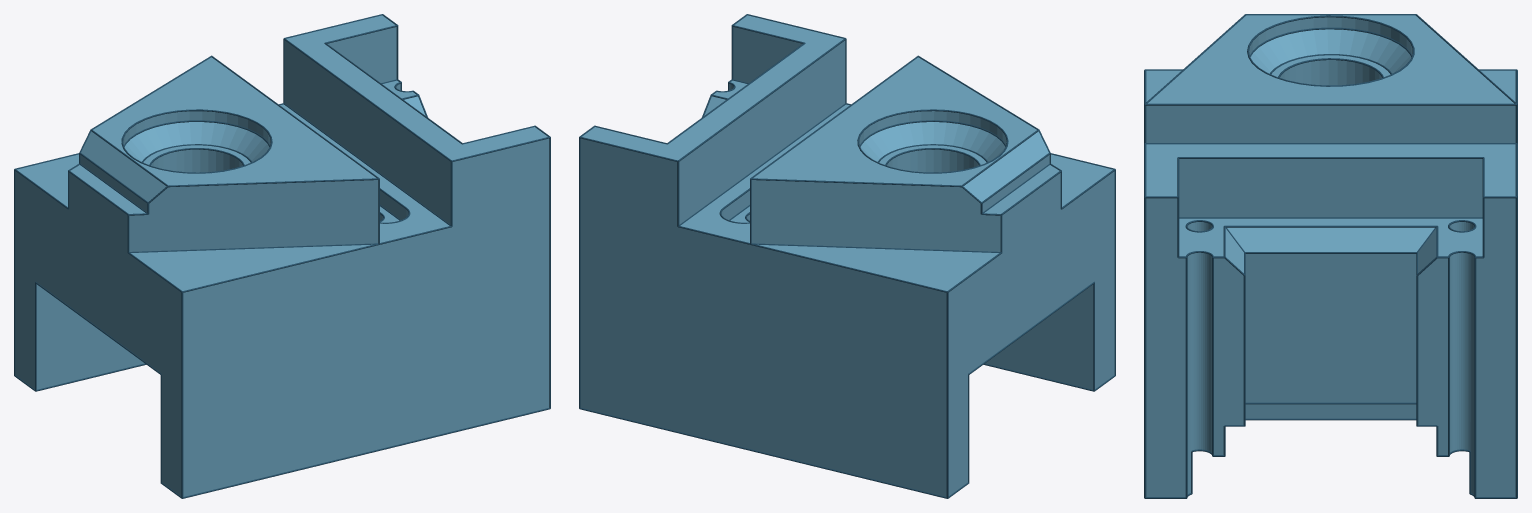
File: section_cc_cad_v2.glb
The picture shows the model from 3 angles, left to right: view 1: azimuth 30°, elevation 25°; view 2: azimuth 150°, elevation 25°; view 3: azimuth 270°, elevation 25°; orthographic projection. The views are drawn at different scales.
Parts seen in each view (by area): view 1: section_cc_blue, navy_edges_crisp; view 2: section_cc_blue, navy_edges_crisp; view 3: section_cc_blue, navy_edges_crisp.
Boxes of the visible parts, x1,y1,x2,y2 form: section_cc_blue: (15,15,549,496); navy_edges_crisp: (14,14,550,498); section_cc_blue: (580,15,1114,496); navy_edges_crisp: (579,14,1115,498); section_cc_blue: (1146,15,1515,496); navy_edges_crisp: (1144,14,1517,498).
Size of the model in its own units: 71.31 by 50.31 by 56.31.
